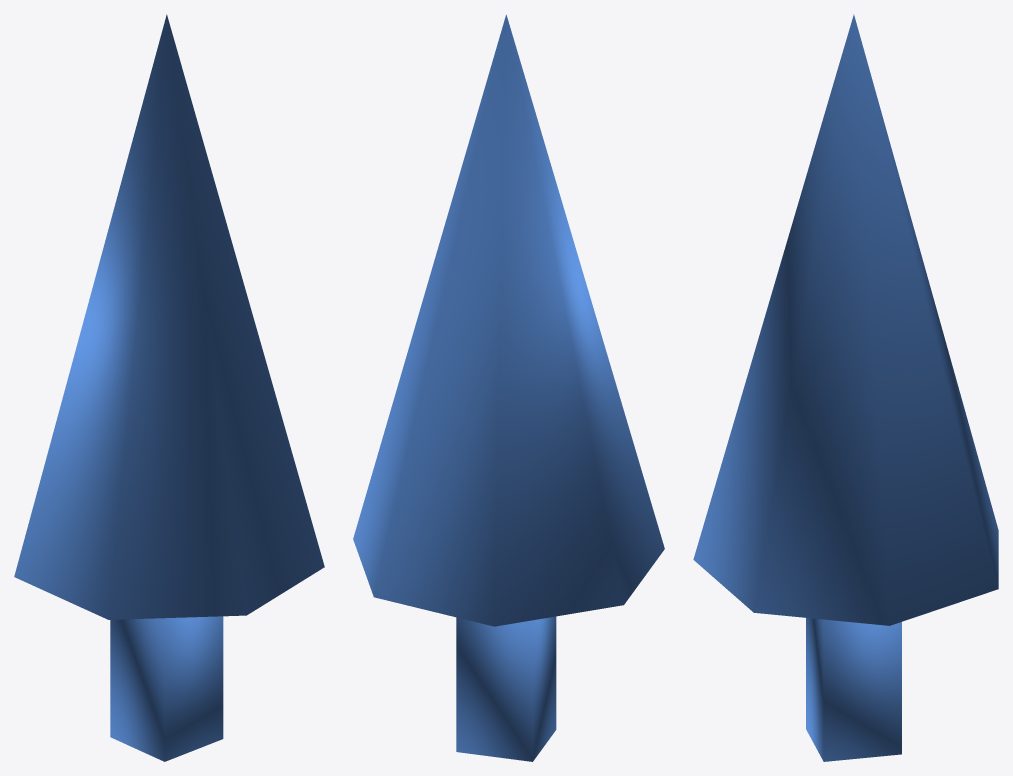
File: tree01.obj
3 renders of one model, left to right at view 1: azimuth 30°, elevation 25°; view 2: azimuth 150°, elevation 25°; view 3: azimuth 270°, elevation 25°, orthographic.
Parts seen in each view (by area): view 1: Cone001; view 2: Cone001; view 3: Cone001.
Part boxes in pixels (x1,y1,x2,y2): Cone001: [14, 14, 324, 761]; Cone001: [353, 14, 664, 761]; Cone001: [693, 14, 998, 761].
Size of the model in its own units: 31.2 by 80 by 30.42.
